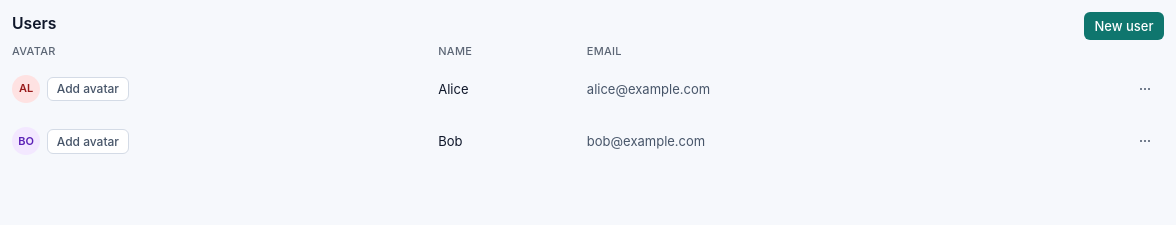
Test case: UsersPanel — archived separation + self-user note (U24/U25) › collapses row actions into a kebab, not text buttons (U26)
Expected: the row with test id "user-row-u-alice" is shown, top-left (12, 63), bottom-right (1164, 115)
Click the button named "Actions for user \"Alice\"" at (1145, 89), box top-left (1126, 70), bottom-right (1164, 108)
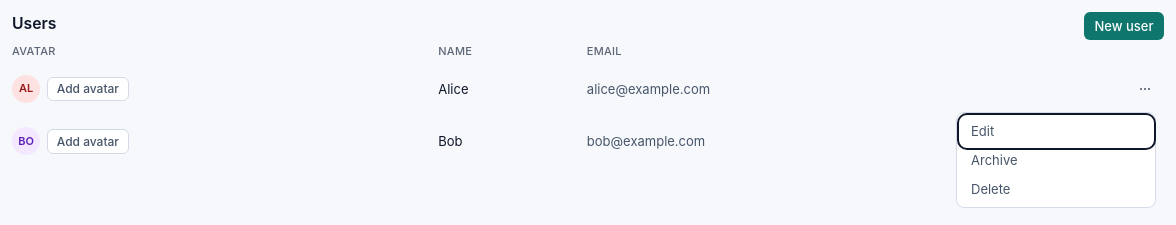
Now the menu item with test id "user-edit-u-alice" is shown, box top-left (960, 117), bottom-right (1152, 146)
Now the menu item with test id "user-archive-u-alice" is shown, box top-left (960, 146), bottom-right (1152, 175)
Now the menu item with test id "user-delete-u-alice" is shown, box top-left (960, 175), bottom-right (1152, 204)
